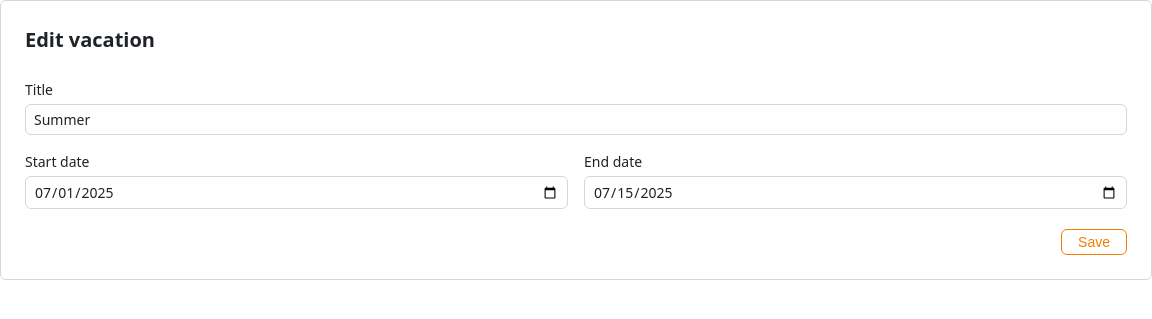
Test case: VacationForm › shows endBeforeStart error when end is before start
Type "2025-07-10" into the date field labelled "Start date".
click(296, 192); type("2025-07-10")  # box [25, 176, 568, 209]
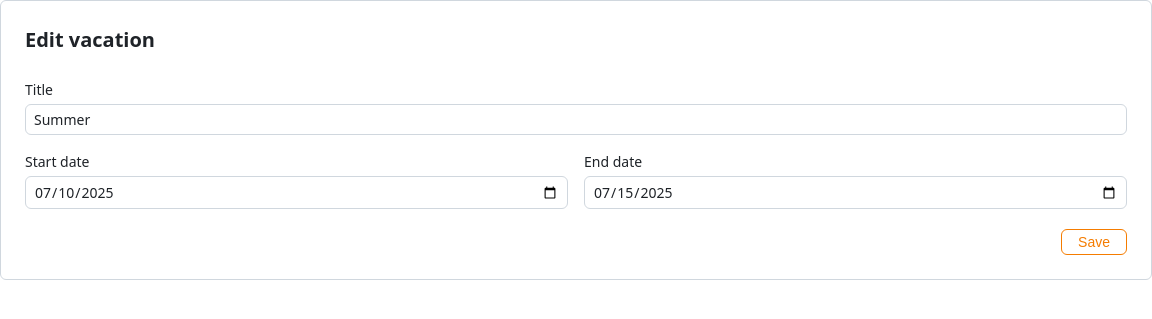
Type "2025-07-01" into the date field labelled "End date".
click(856, 192); type("2025-07-01")  # box [584, 176, 1127, 209]
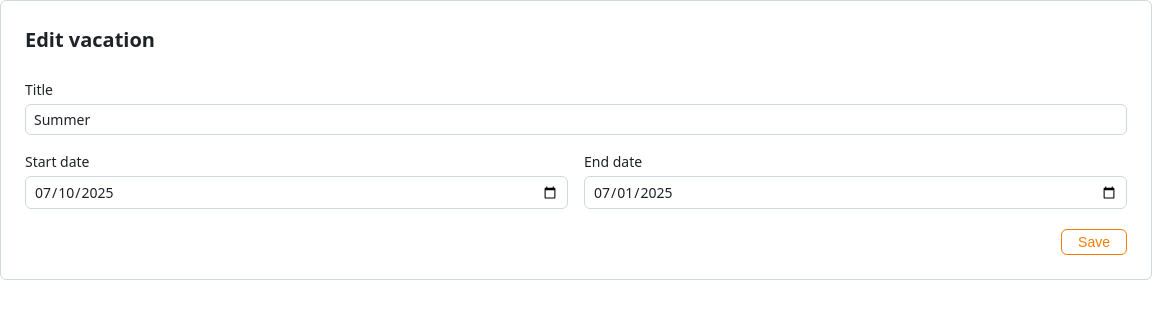
Submit the form, box [25, 79, 1127, 255]
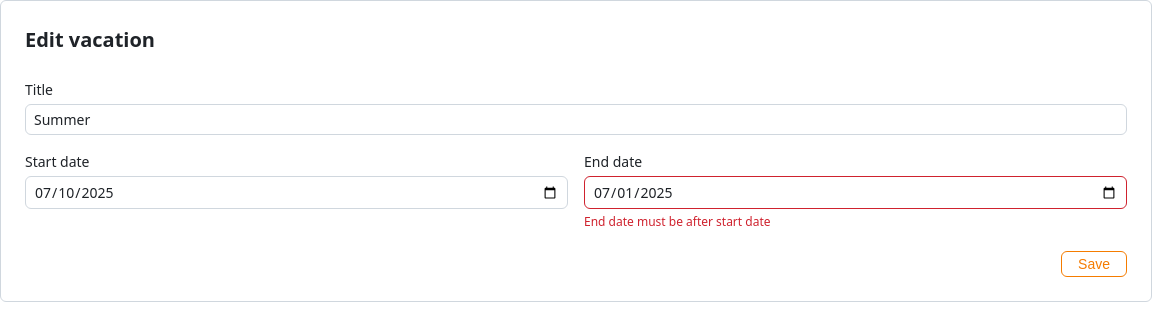
Expected: the text "End date must be after start date" is shown, [584, 213, 770, 230]
